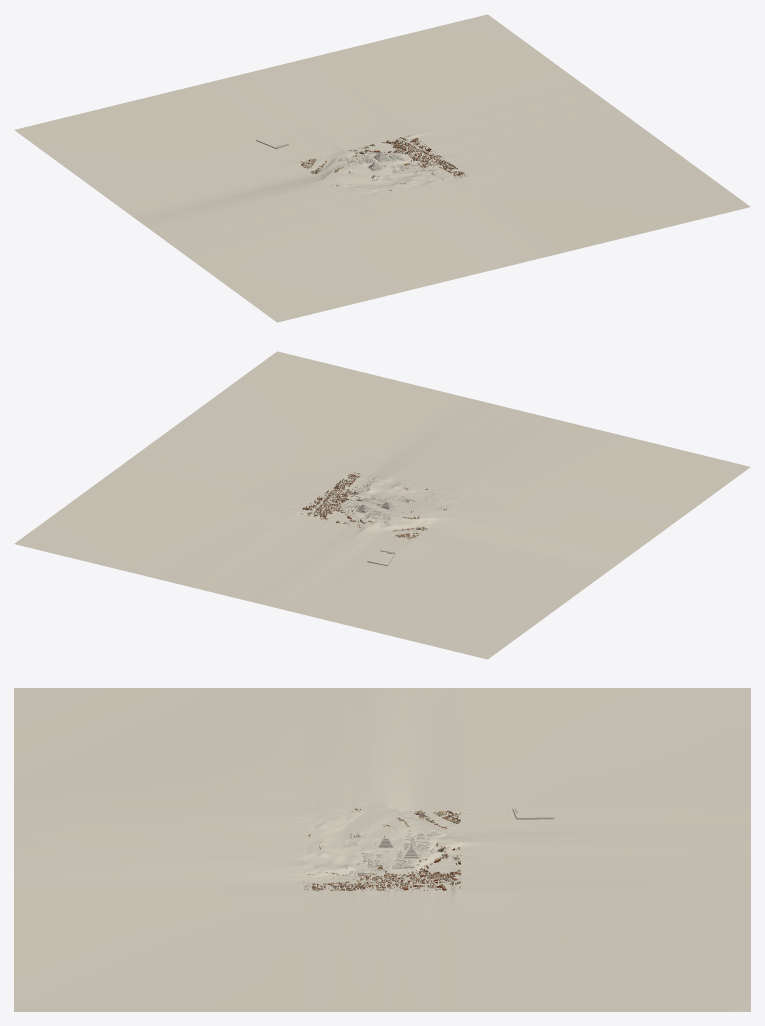
Rendered from plateau.glb.
The picture shows the model from 3 angles, top to bottom: view 1: azimuth 30°, elevation 25°; view 2: azimuth 150°, elevation 25°; view 3: azimuth 270°, elevation 25°; orthographic projection. The views are drawn at different scales.
Parts seen in each view (by area): view 1: sand__vis, sand__col, town__col; view 2: sand__vis, sand__col, town__col; view 3: sand__vis, sand__col, town__col, bedrock__col.
Boxes of the visible parts, bbox=[...] form: sand__vis: bbox=[14, 14, 750, 322]; sand__col: bbox=[296, 134, 468, 200]; town__col: bbox=[298, 135, 466, 190]; sand__vis: bbox=[14, 351, 750, 659]; sand__col: bbox=[296, 472, 468, 540]; town__col: bbox=[301, 472, 446, 539]; sand__vis: bbox=[14, 688, 750, 1011]; sand__col: bbox=[303, 806, 461, 891]; town__col: bbox=[304, 808, 461, 891]; bedrock__col: bbox=[343, 830, 439, 885].
Bounding box in the file's own units: 10600 × 198 × 10200.
